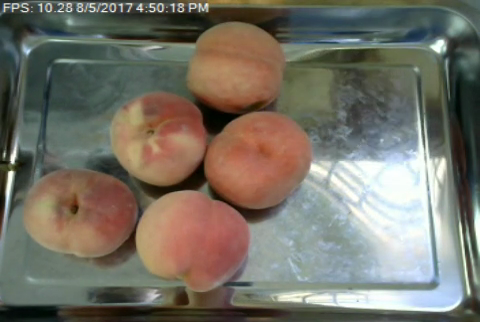Peach: (135, 189, 248, 290), (21, 166, 138, 257), (205, 110, 310, 210), (107, 90, 207, 187), (186, 21, 283, 113)
